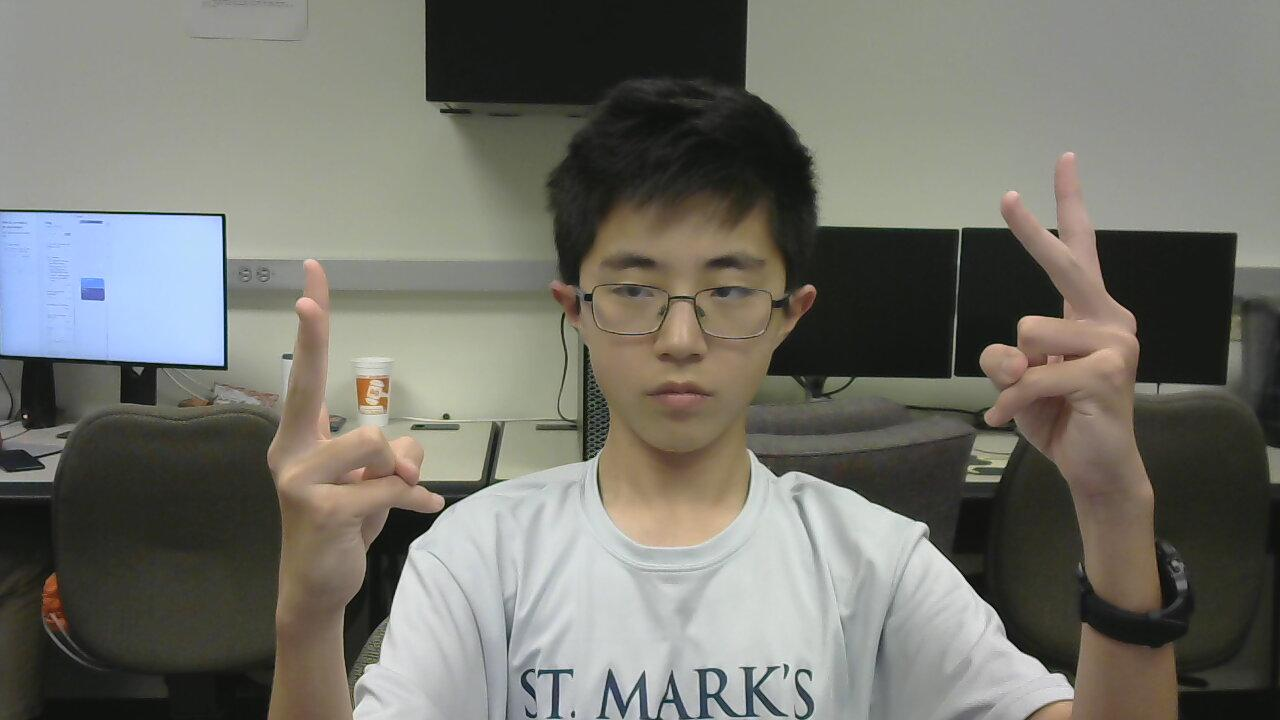peace: (251, 232, 461, 629), (986, 139, 1179, 521)
